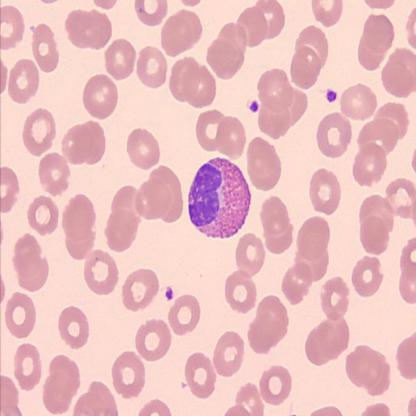Eosinophil: (187, 156, 253, 239)
